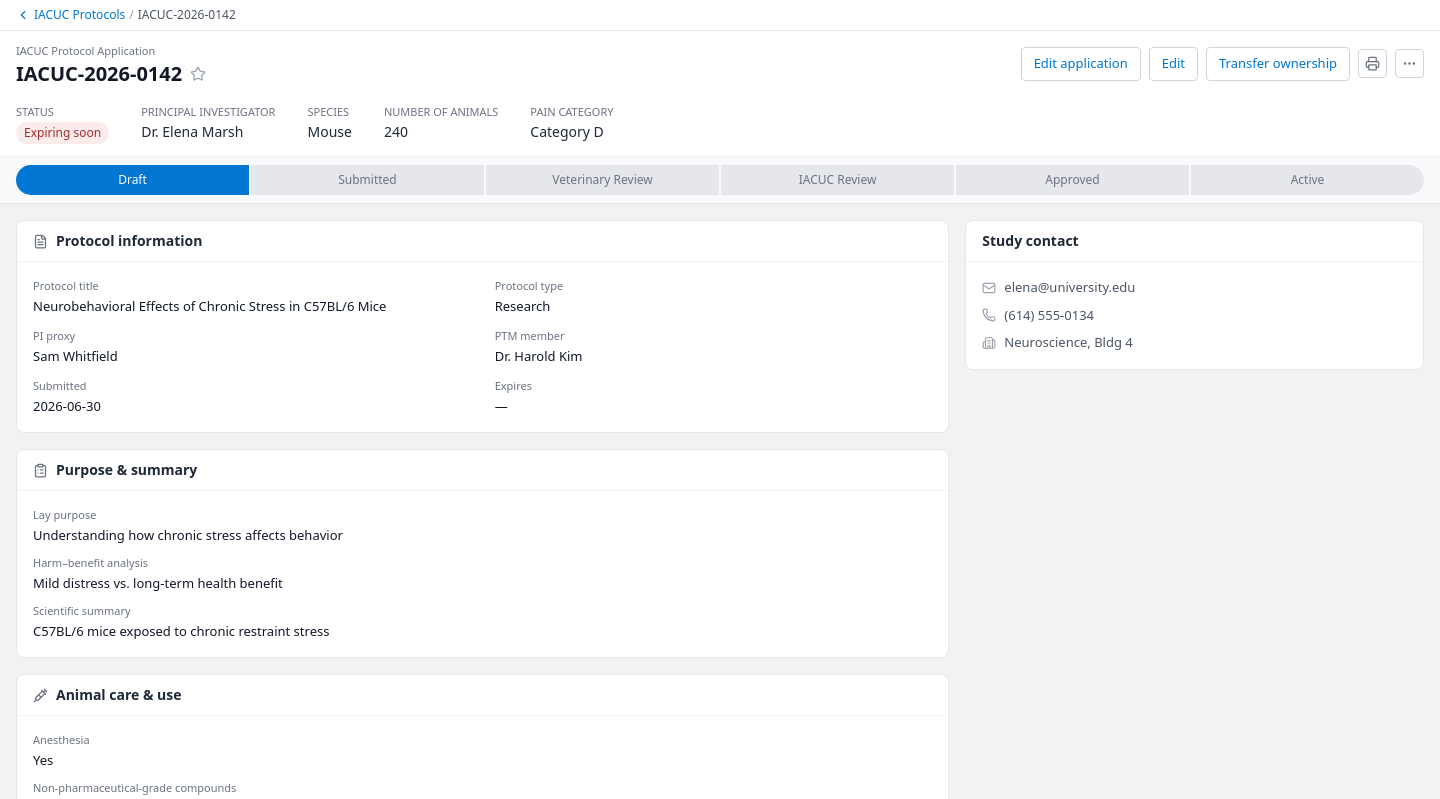
Scenario: DetailPage › edit modal keeps a status that isn't in the standard stage list
Expected: the heading "IACUC-2026-0142" is shown, [16,60,182,88]
Click the button "Edit". click: (1173, 64)
box: [1149,47,1198,80]
(page scrolled)
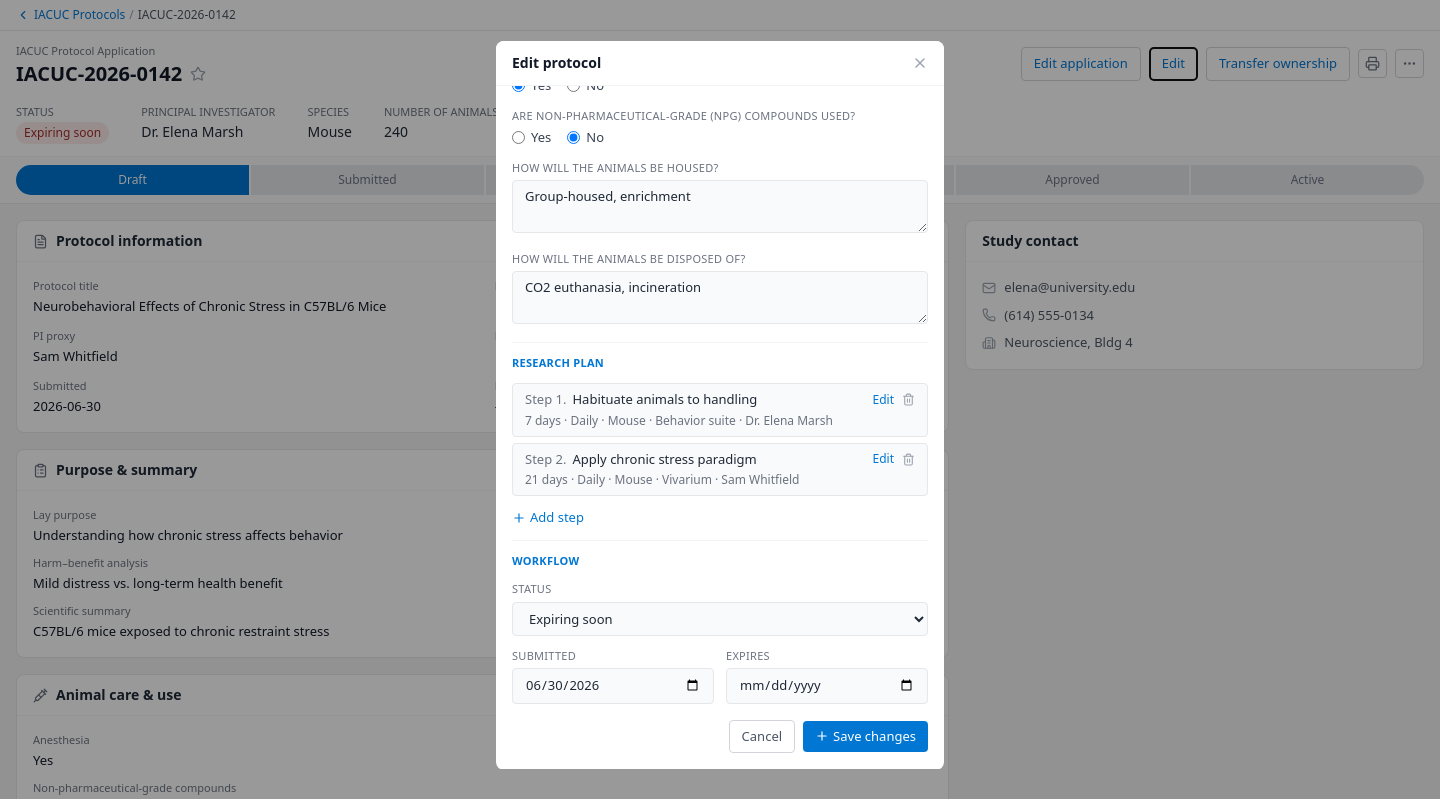
Expected: the dropdown labelled "Status" shows "Expiring soon", [512,602,928,636]
